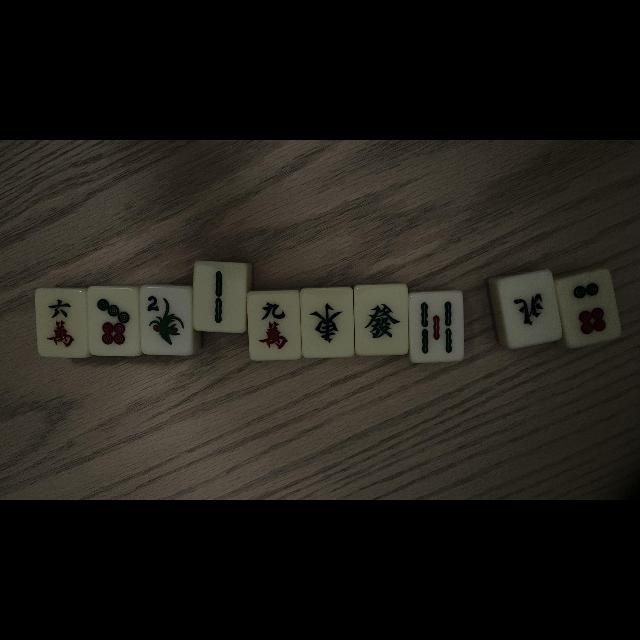b2: (194, 262, 244, 332)
b5: (411, 293, 462, 361)
c6: (36, 290, 86, 356)
c9: (248, 292, 300, 358)
d6: (561, 274, 619, 346)
d7: (88, 288, 138, 354)
dg: (355, 286, 407, 352)
f2-s: (141, 287, 191, 355)
we: (302, 290, 352, 354)
wn: (502, 275, 556, 345)
